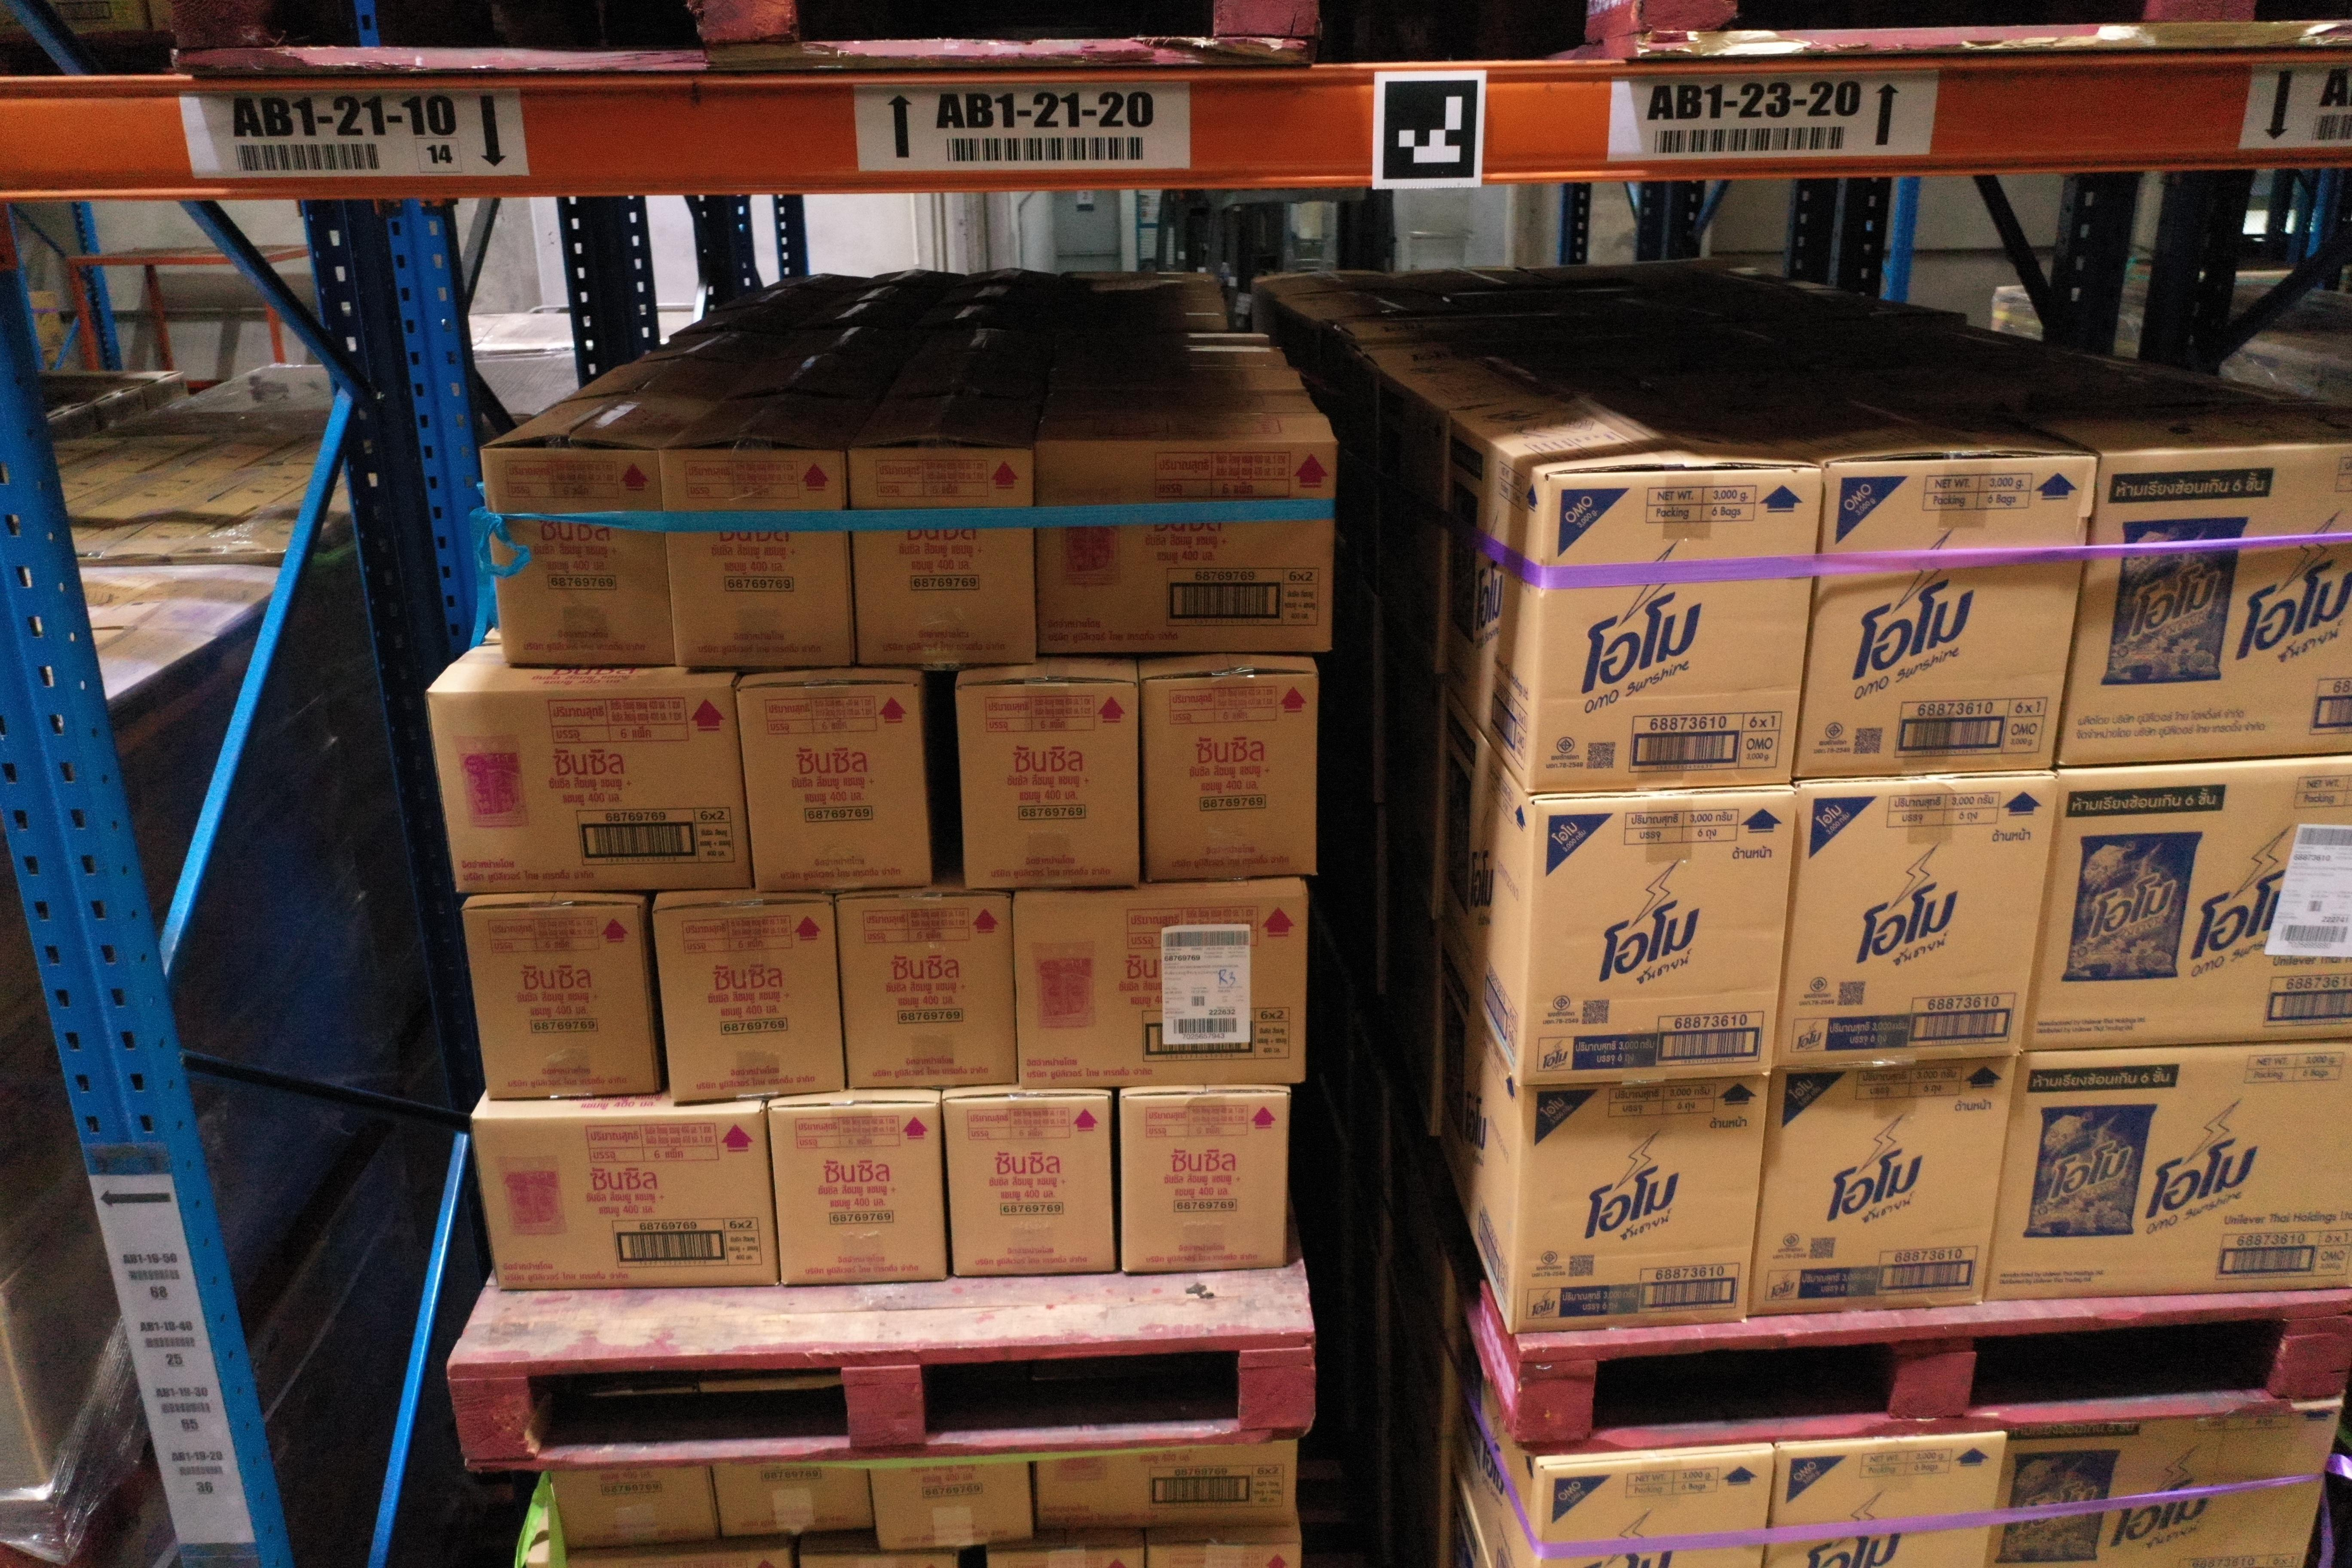-: (1797, 453, 2100, 780), (2023, 754, 2352, 1053), (1984, 1038, 2352, 1304), (2058, 443, 2352, 772), (1529, 471, 1822, 794), (1771, 773, 2061, 1076), (1519, 793, 1797, 1094), (1752, 1055, 2016, 1318), (427, 686, 754, 894), (1514, 1076, 1771, 1335), (1036, 439, 1339, 656), (1017, 885, 1309, 1090), (1984, 1405, 2345, 1568), (469, 1113, 779, 1291), (479, 443, 675, 670), (661, 444, 857, 668), (850, 444, 1043, 668), (733, 677, 931, 894), (952, 681, 1141, 894), (651, 901, 840, 1109), (462, 903, 660, 1101), (1139, 672, 1319, 885), (838, 889, 1017, 1090), (1759, 1435, 2007, 1568), (770, 1102, 948, 1284), (945, 1095, 1115, 1279), (1120, 1092, 1288, 1272), (1533, 1451, 1778, 1568), (1034, 1442, 1297, 1535), (866, 1452, 1038, 1554), (548, 1463, 719, 1554), (707, 1459, 875, 1542)
